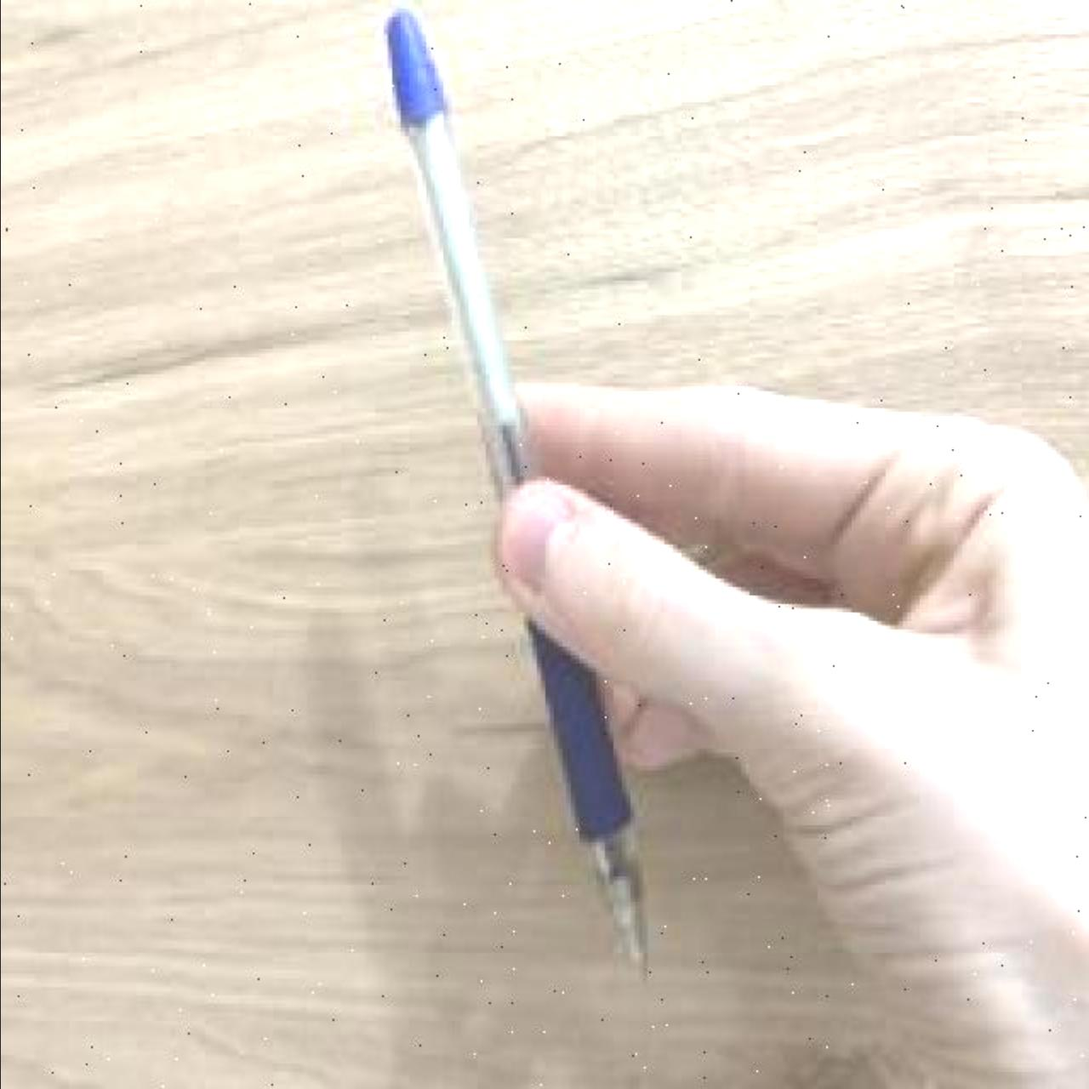pen: (383, 3, 664, 978)
